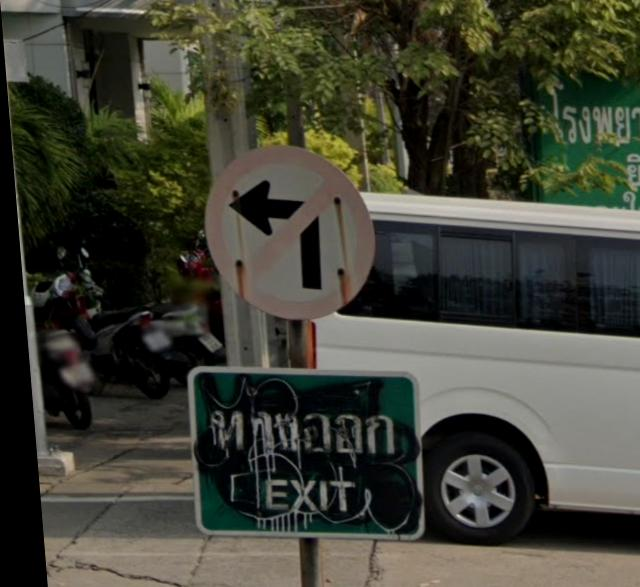not_turn_left: (195, 148, 381, 312)
